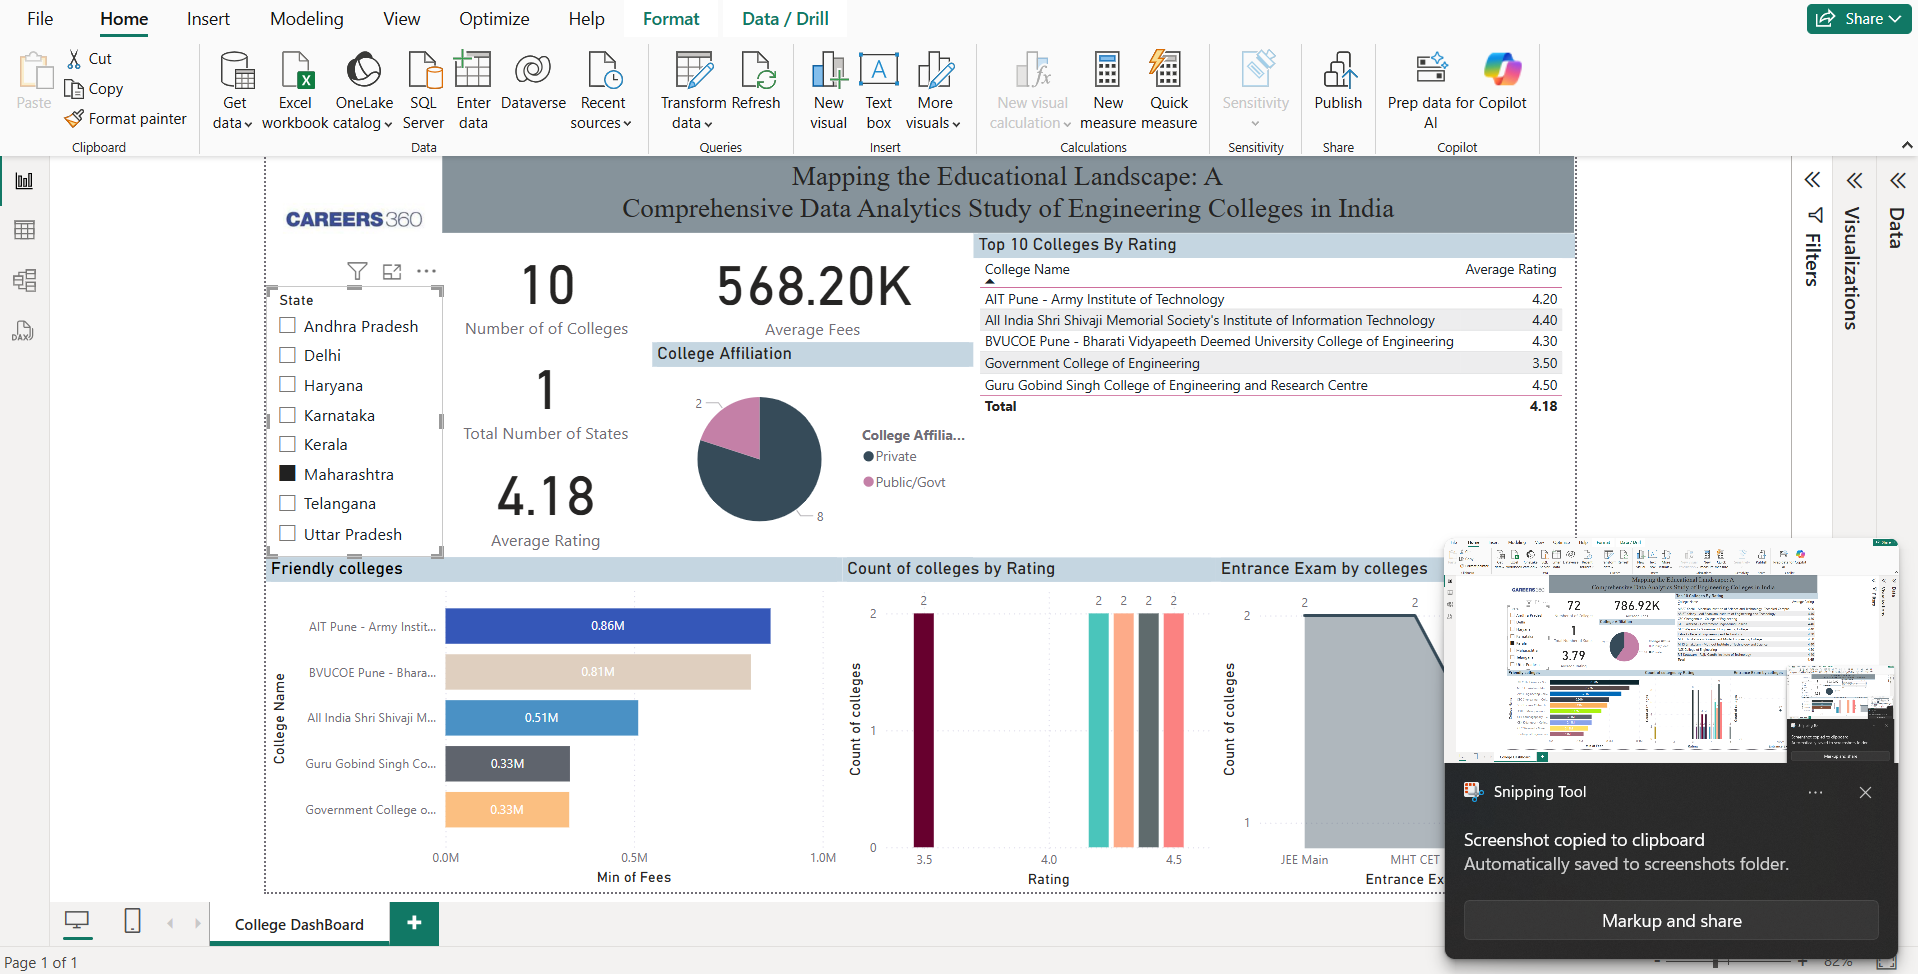

Layout of this report page (visuals, bound fields, positions):
{"tool":"powerbi","page":{"name":"College DashBoard","canvas":[1280,720],"ordinal":0},"visuals":[{"type":"card","fields":{"Values":["Sheet.Average_Fees"]},"box":[377.4,75.5,314.2,109.8],"z":0},{"type":"card","fields":{"Values":["College_data.Count_ccolleges"]},"box":[172.4,75.8,204.2,107.6],"z":1000},{"type":"card","fields":{"Values":["College_data.no_stares"]},"box":[172.9,182.5,203.1,100.2],"z":2000},{"type":"slicer","fields":{"Values":["College_data.State"]},"box":[0,127.6,172.9,264.8],"z":3000},{"type":"textbox","box":[172.9,0,1107.4,75.5],"z":4000},{"type":"pieChart","title":"College Affiliation","fields":{"Category":["College_data.College Affiliation"],"Y":["College_data.Number of of Colleges"]},"box":[377.4,182.5,314.2,209.9],"z":5000},{"type":"card","fields":{"Values":["College_data.Average Rating"]},"box":[172.9,282.7,203.1,108.4],"z":6000},{"type":"columnChart","title":"Count of colleges by Rating","fields":{"Category":["Sheet.Rating"],"Y":["CountNonNull(Sheet.College Name)"],"Series":["Sheet.Rating"]},"box":[563.7,392.5,365.6,327.7],"z":7000},{"type":"barChart","title":"Friendly colleges","fields":{"Category":["College_data.College Name"],"Series":["College_data.College Name"],"Y":["Min(College_data.Fees)"]},"box":[0,392.5,563.7,326.5],"z":8000},{"type":"stackedAreaChart","title":"Entrance Exam by colleges","fields":{"Category":["Sheet.Entrance Exam"],"Y":["Count(College_data.College Name)"]},"box":[929.4,392.5,351,327.7],"z":9000},{"type":"image","box":[0,0,172.4,122.3],"z":10000},{"type":"tableEx","title":"Top 10 Colleges By Rating","fields":{"Values":["College_data.College Name","College_data.Average Rating"]},"box":[691.6,75.5,588.7,317],"z":11000}]}

Visuals, with their boxes on the page's 1280x720 design canvas (x1, y1, x2, y2). These are canvas units, not pixel positions in the 1918x974 screenshot, which may show the page scaled, cropped or inside an application window:
card - Sheet.Average_Fees: (left=377, top=76, right=692, bottom=185)
card - College_data.Count_ccolleges: (left=172, top=76, right=377, bottom=183)
card - College_data.no_stares: (left=173, top=182, right=376, bottom=283)
slicer - College_data.State: (left=0, top=128, right=173, bottom=392)
textbox: (left=173, top=0, right=1280, bottom=76)
"College Affiliation" pieChart: (left=377, top=182, right=692, bottom=392)
card - College_data.Average Rating: (left=173, top=283, right=376, bottom=391)
"Count of colleges by Rating" columnChart: (left=564, top=392, right=929, bottom=720)
"Friendly colleges" barChart: (left=0, top=392, right=564, bottom=719)
"Entrance Exam by colleges" stackedAreaChart: (left=929, top=392, right=1280, bottom=720)
image: (left=0, top=0, right=172, bottom=122)
"Top 10 Colleges By Rating" tableEx: (left=692, top=76, right=1280, bottom=392)
